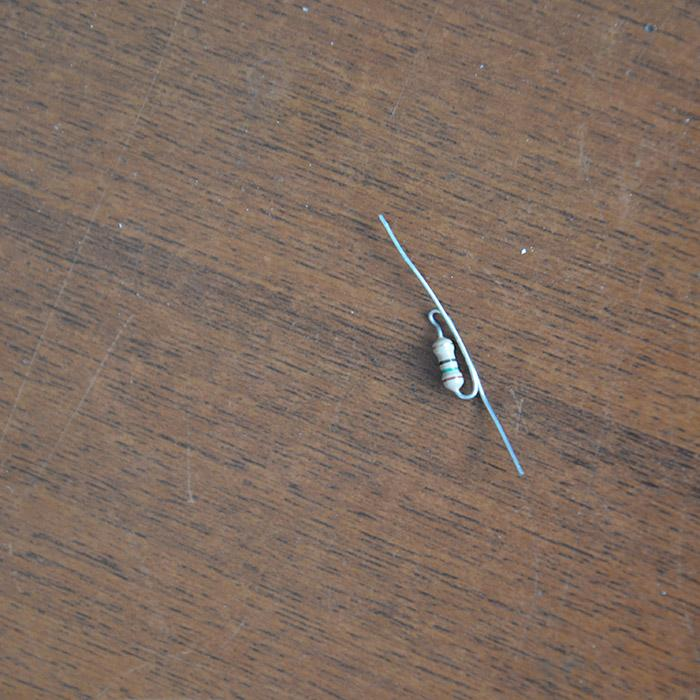resistor: (431, 334, 465, 393)
